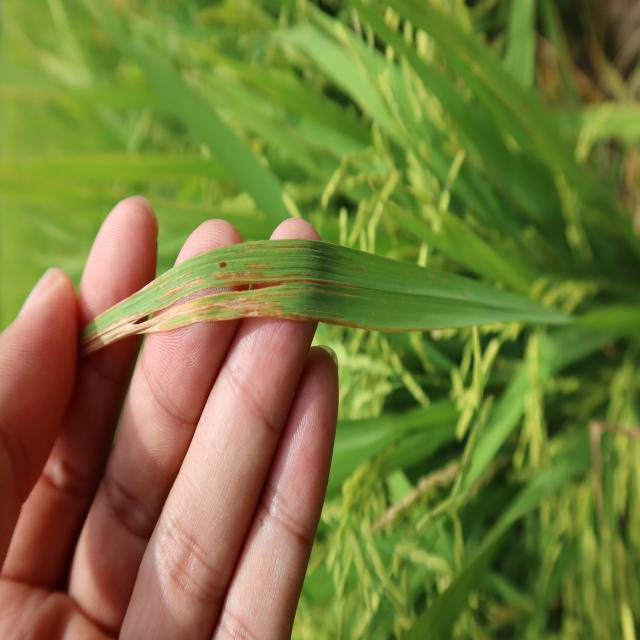Dom soc vi khuan: (160, 292, 298, 332), (154, 276, 204, 304), (211, 271, 312, 281), (283, 278, 358, 290), (149, 278, 175, 294), (244, 262, 275, 270), (275, 244, 312, 249), (177, 271, 194, 281), (246, 243, 265, 249), (234, 250, 247, 254)
